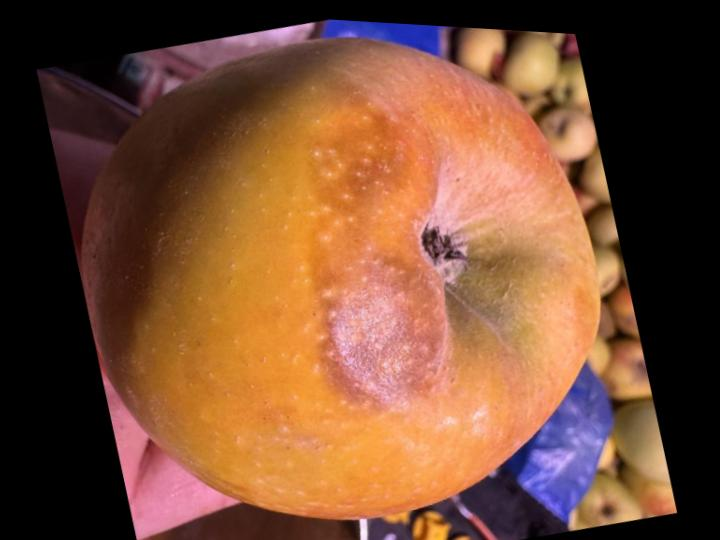apple: (81, 38, 598, 519)
bruise_discoloration: (311, 119, 441, 408)
